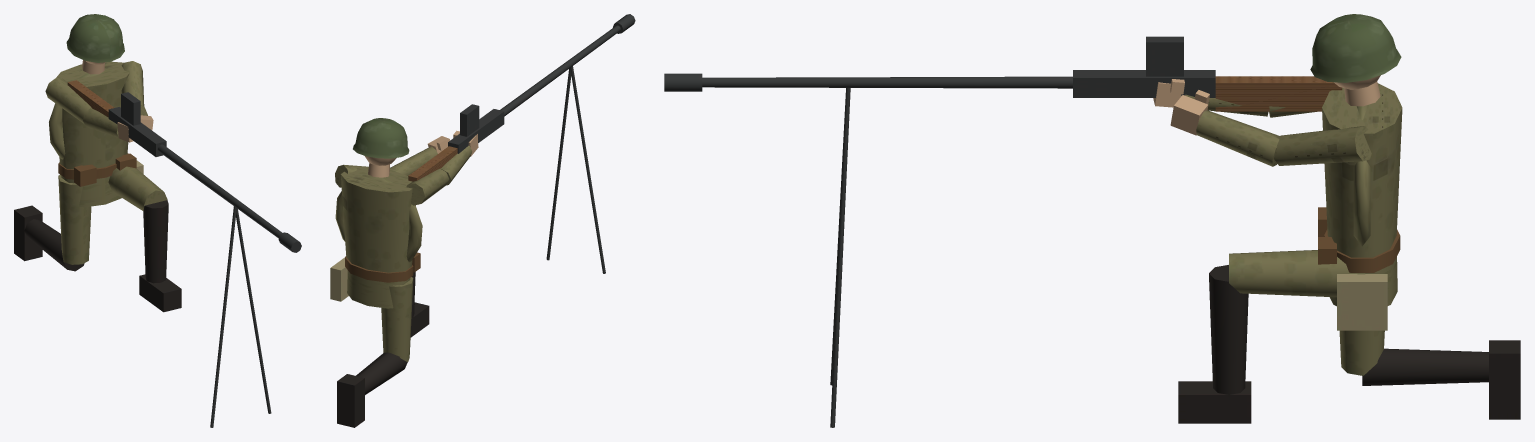
Rendered from infantry-2.glb.
3 renders of one model, left to right at view 1: azimuth 30°, elevation 25°; view 2: azimuth 150°, elevation 25°; view 3: azimuth 270°, elevation 25°, orthographic. The views are drawn at different scales.
Visible parts, largest first — view 1: body, rifle, shin_left, head, leg_right, shin_right, leg_left, arm_right, forearm_right, arm_left; view 2: body, rifle, shin_right, head, leg_right, arm_right, forearm_left, forearm_right, shin_left; view 3: rifle, body, shin_left, shin_right, head, leg_left, forearm_left, arm_left, leg_right, forearm_right.
Part boxes in pixels (x1,y1,x2,y2): body: (49,61,143,207); rifle: (67,80,301,427); shin_left: (139,200,181,312); head: (66,14,124,74); leg_right: (58,174,91,264); shin_right: (14,205,84,271); leg_left: (108,166,167,211); arm_right: (45,78,91,123); forearm_right: (83,108,133,142); arm_left: (121,61,144,105); body: (330,167,422,308); rifle: (408,14,635,273); shin_right: (337,352,407,427); head: (353,118,409,177); leg_right: (381,277,413,361); arm_right: (406,168,449,205); forearm_left: (390,136,450,175); forearm_right: (441,130,478,185); shin_left: (410,272,429,337); rifle: (664,36,1342,427); body: (1318,83,1402,330); shin_left: (1178,265,1251,423); shin_right: (1362,340,1520,419); head: (1310,14,1401,106); leg_left: (1229,250,1365,297); forearm_left: (1170,90,1279,166); arm_left: (1274,126,1371,165); leg_right: (1339,330,1384,375); forearm_right: (1153,79,1268,116).
Bounding box in the file's own units: 0.5828 × 1.42 × 2.7.
Materials: 7 (7 with a texture image).
